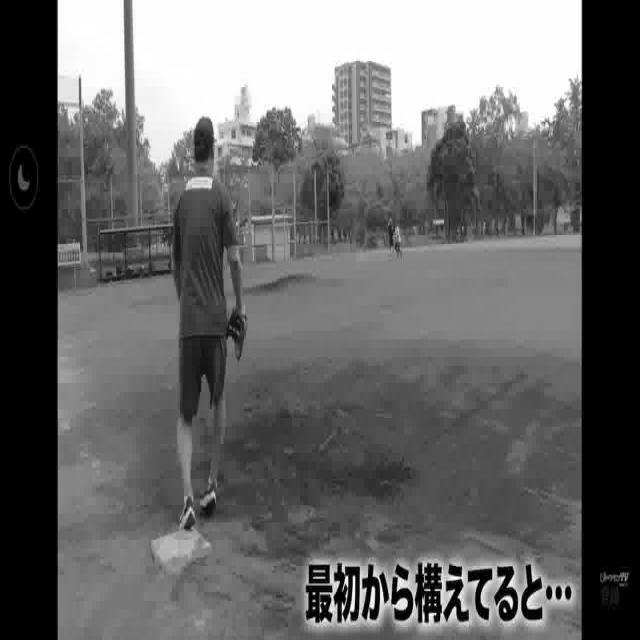base: (150, 524, 207, 575)
baseball_glove: (228, 307, 250, 368)
shoe: (178, 492, 196, 531), (197, 485, 218, 513)
